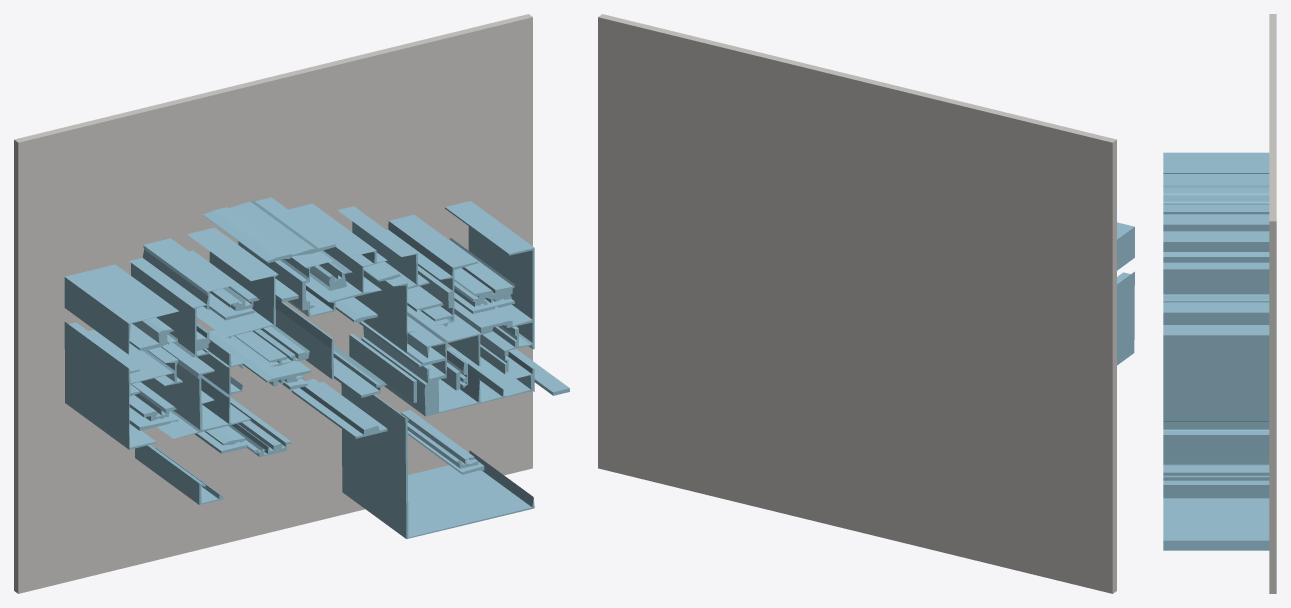
The picture shows the model from 3 angles, left to right: view 1: azimuth 30°, elevation 25°; view 2: azimuth 150°, elevation 25°; view 3: azimuth 270°, elevation 25°; orthographic projection. The views are drawn at different scales.
Visible parts, largest first — view 1: world; view 2: world; view 3: world.
Boxes of the visible parts, x1,y1,x2,y2 form: world: (14, 14, 569, 593); world: (598, 14, 1134, 593); world: (1163, 14, 1276, 593).
Bounding box in the file's own units: 10.23 × 8.57 × 2.36.
